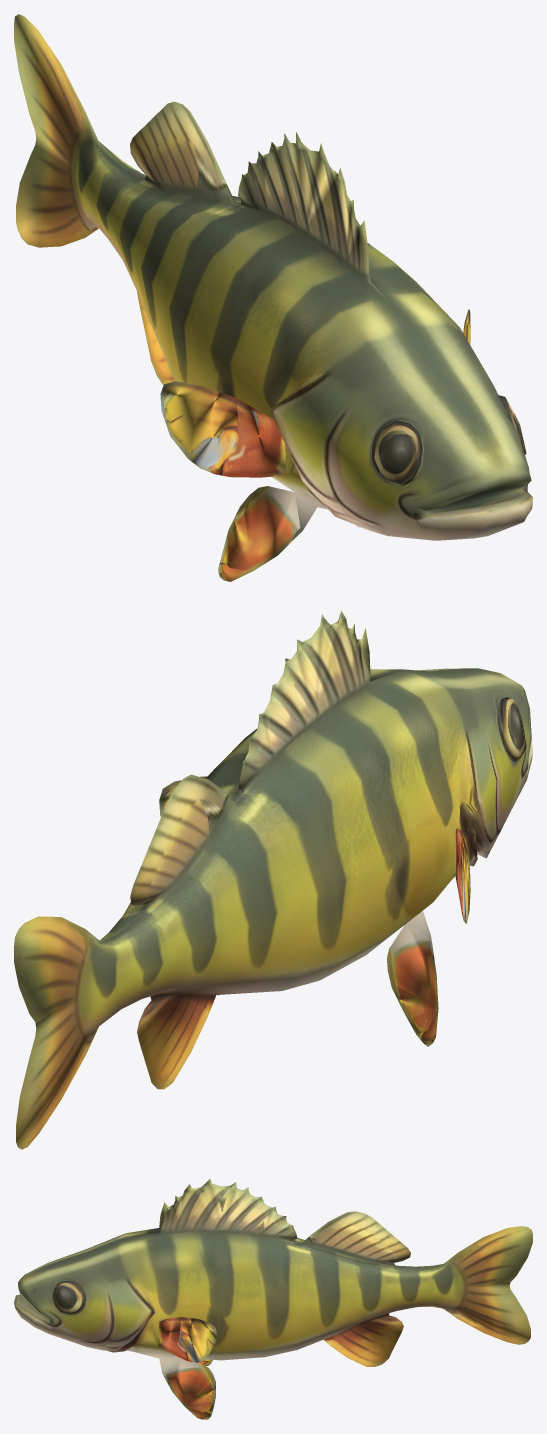
File: Yellow_Perch_01.fbx
3 renders of one model, top to bottom at view 1: azimuth 30°, elevation 25°; view 2: azimuth 150°, elevation 25°; view 3: azimuth 270°, elevation 25°, orthographic. The views are drawn at different scales.
Visible parts, largest first — view 1: Yellow_Perch_01; view 2: Yellow_Perch_01; view 3: Yellow_Perch_01.
Part boxes in pixels (x1,y1,x2,y2): Yellow_Perch_01: (14,14,532,581); Yellow_Perch_01: (14,610,532,1149); Yellow_Perch_01: (14,1178,532,1419).
Bounding box in the file's own units: 36.13 × 45.51 × 99.8.
